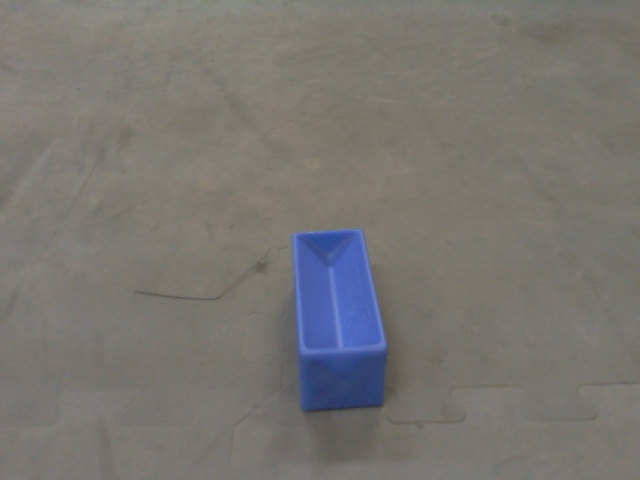BlueSample: (285, 222, 393, 412)
